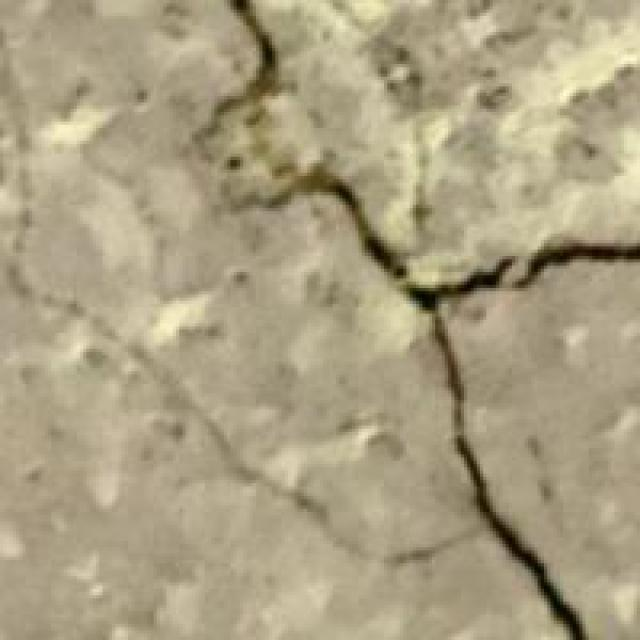Crack: (224, 10, 637, 637)
